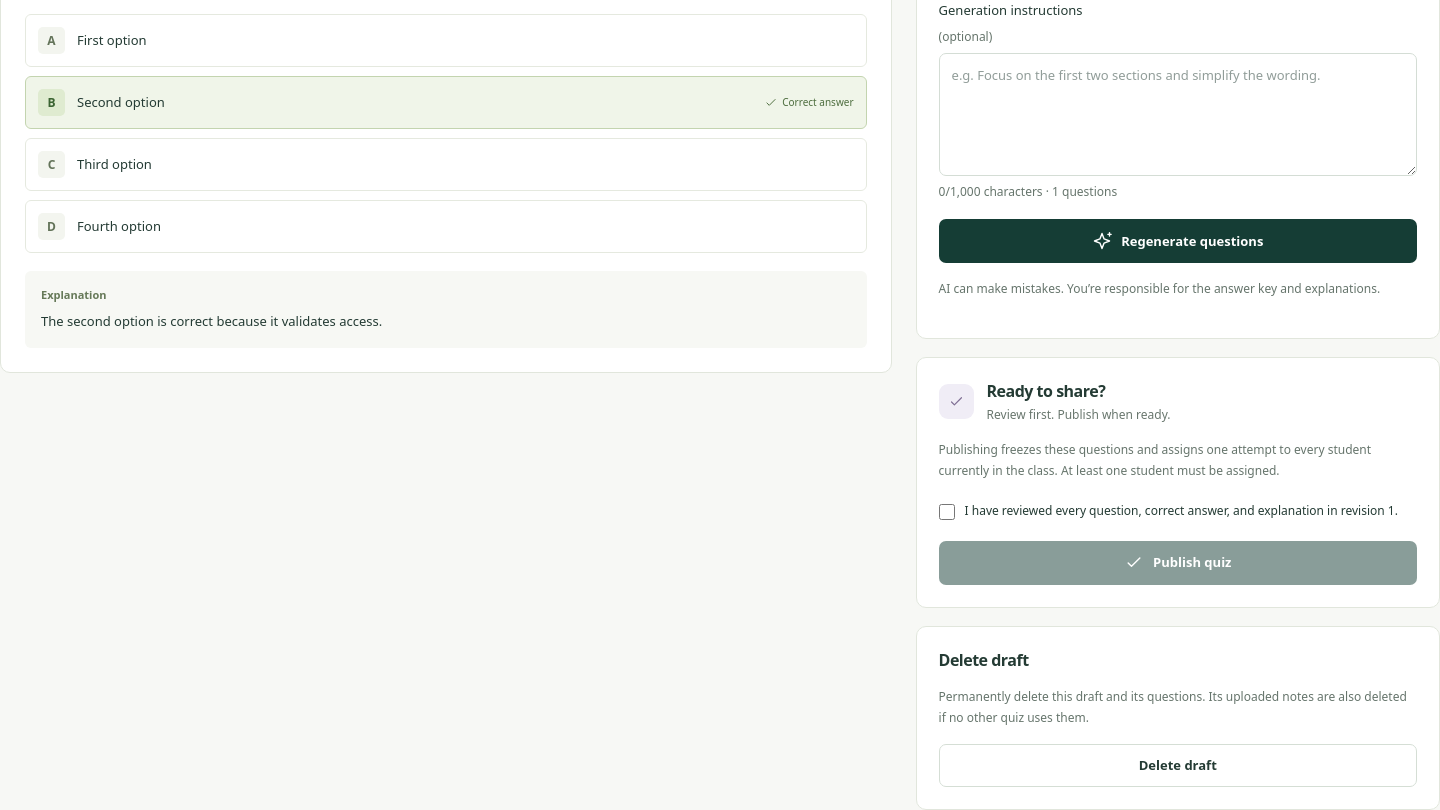
Test: teacher draft review › shows all options, keys, and explanations and requires explicit review of the current revision
The width and height of the screenshot is (1440, 810).
(page scrolled)
Expected: the text "Correct answer" is shown, [764,95,854,110]
Expected: the text "The second option is correct because it validates access." is shown, [41,312,382,330]
Click the checkbox at (946,512), box [938,504,954,520]
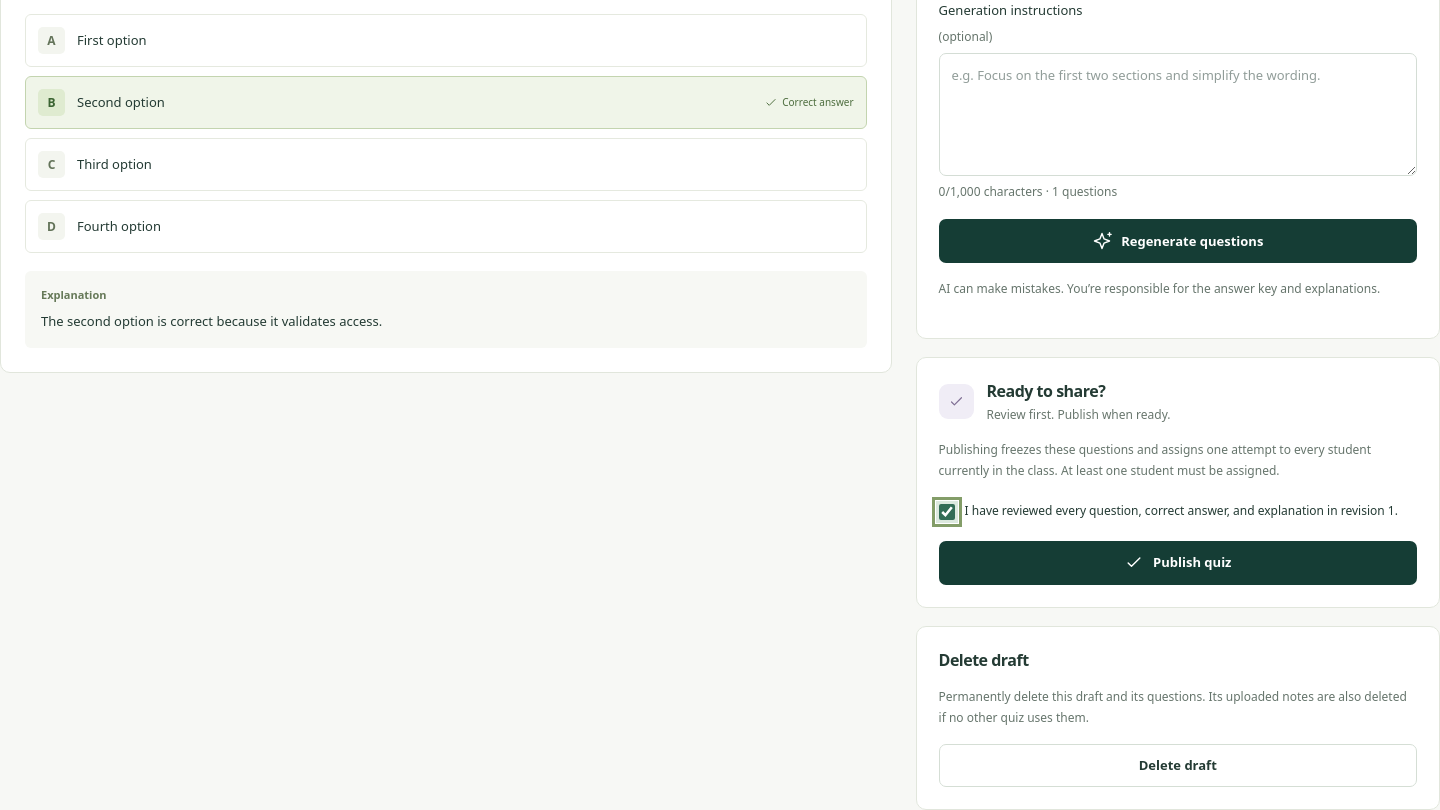
Click the button "Publish quiz" at (1178,563), box [938,541,1417,585]
(page scrolled)
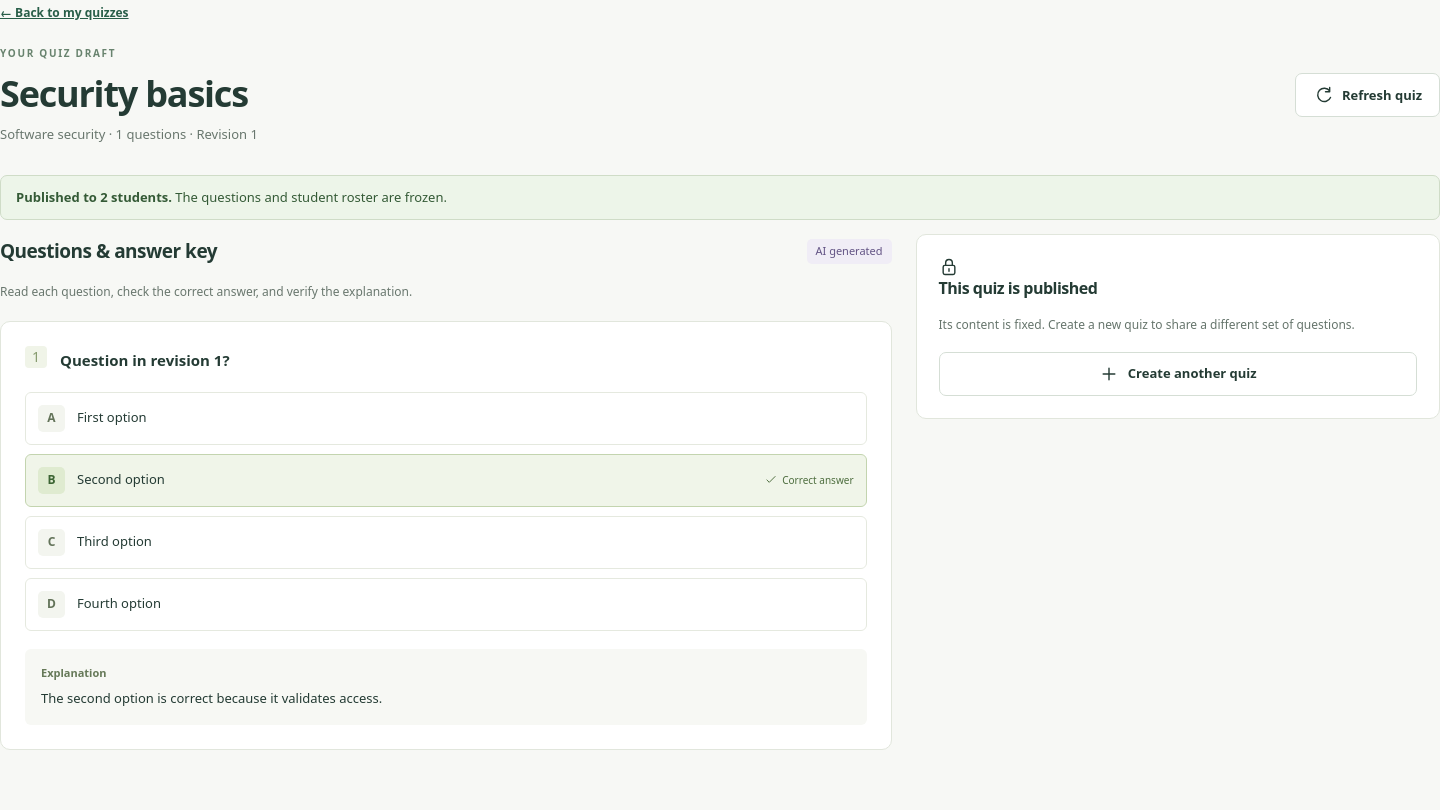
Now the text "Published to 2 students." is shown, box [16,188,172,206]
Now the button "Regenerate questions" is gone
